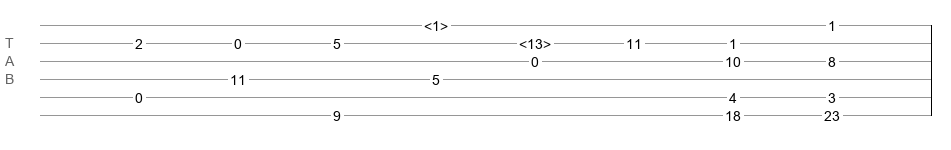0: (135, 90, 143, 100), (234, 36, 242, 46), (531, 54, 539, 64)
1: (729, 36, 737, 46), (828, 18, 836, 28)
10: (725, 54, 741, 64)
11: (230, 72, 246, 82), (626, 36, 642, 46)
18: (725, 108, 741, 118)
2: (135, 36, 143, 46)
23: (824, 108, 840, 118)
3: (828, 90, 836, 100)
4: (729, 90, 737, 100)
5: (333, 36, 341, 46), (432, 72, 440, 82)
8: (828, 54, 836, 64)
9: (333, 108, 341, 118)
harmonic: (519, 36, 551, 46), (424, 18, 448, 28)
